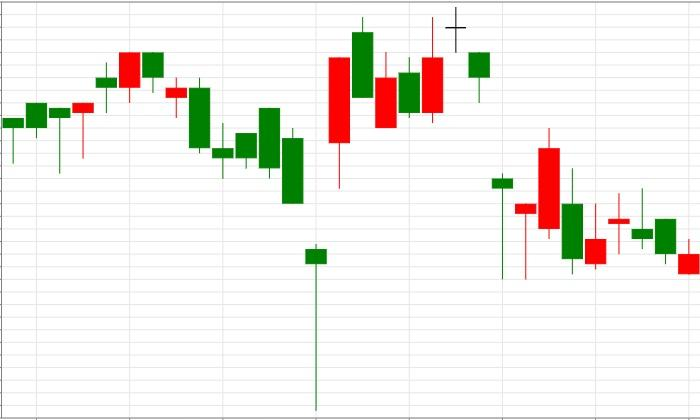hammer_rise: (119, 51, 327, 411)
